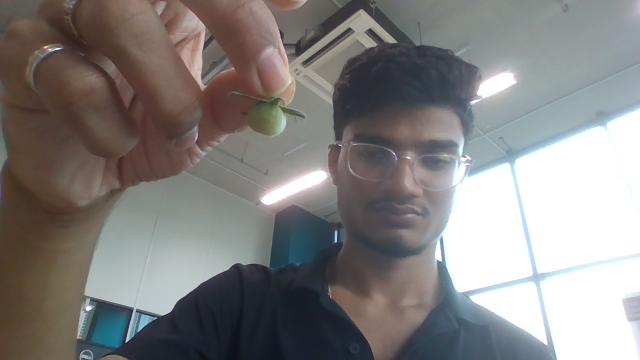Fruit Maturation: (246, 100, 288, 138)
